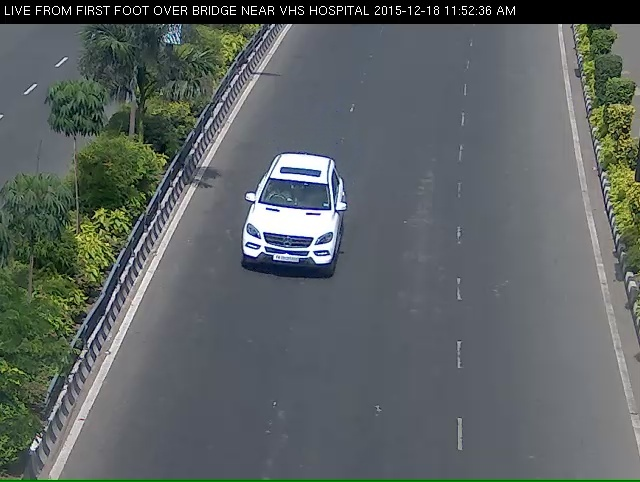Car: (228, 163, 347, 304)
